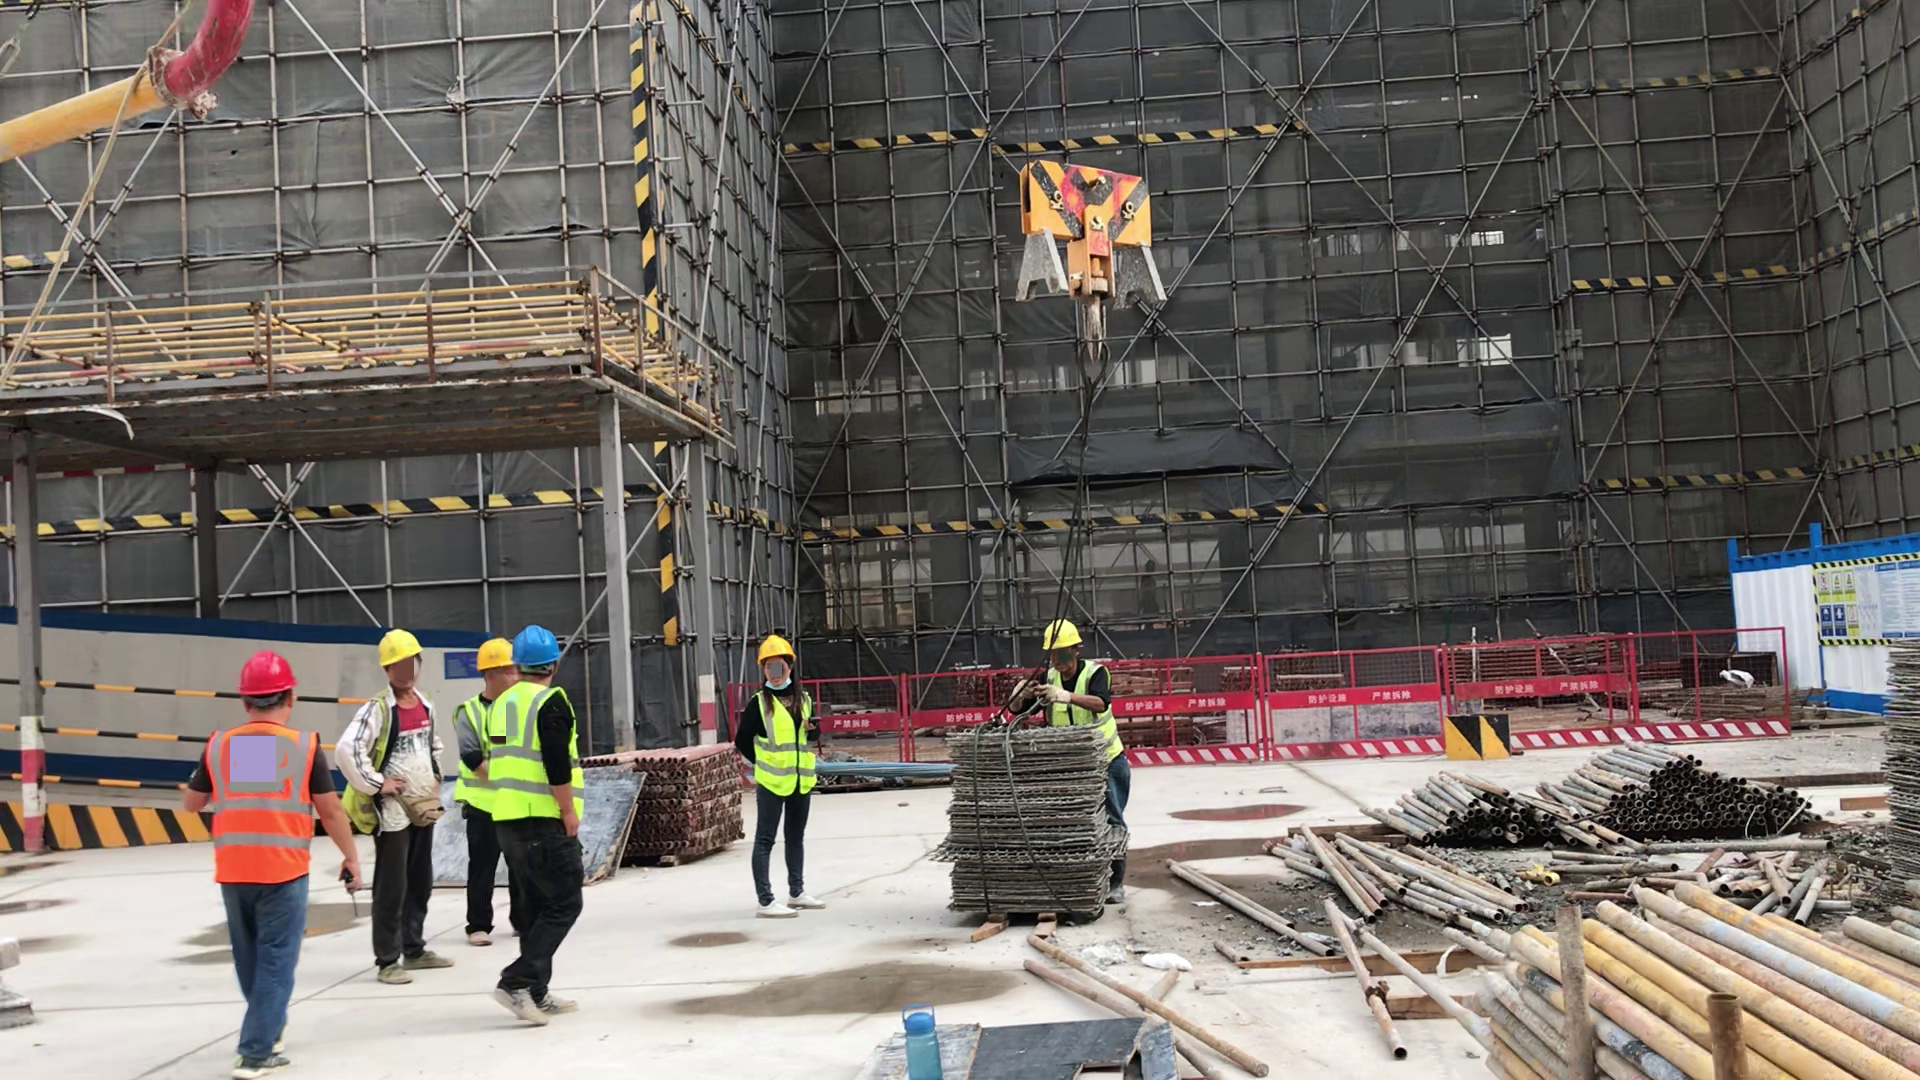helmet: (239, 645, 301, 695), (511, 620, 556, 664), (378, 629, 423, 664), (471, 638, 515, 674), (1042, 615, 1082, 651), (756, 631, 796, 662)
person: (190, 655, 361, 1080), (337, 628, 456, 986), (491, 623, 586, 1029), (1008, 625, 1130, 906), (735, 635, 830, 919), (453, 636, 530, 946)
vest: (206, 724, 317, 880), (490, 679, 582, 827), (1043, 662, 1124, 768), (755, 688, 820, 799), (455, 692, 494, 814)
